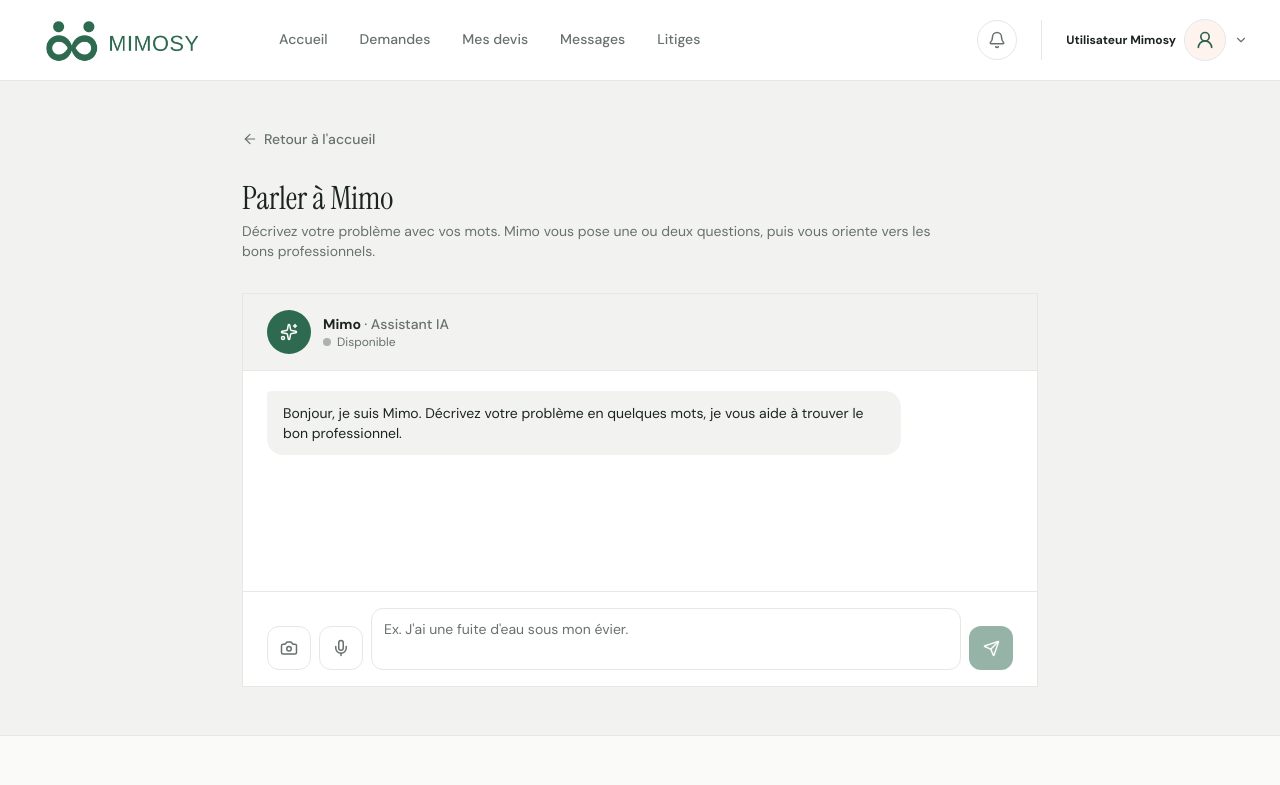
Test: Conversation Mimo (/client/diagnostic) › affiche uniquement les fourchettes tarifaires réellement fournies par le backend
This screenshot has width=1280, height=785.
Type "Mon robinet fuit." into the text box with test id "mimo-saisie".
click(666, 639); type("Mon robinet fuit.")  # box [371, 608, 961, 670]
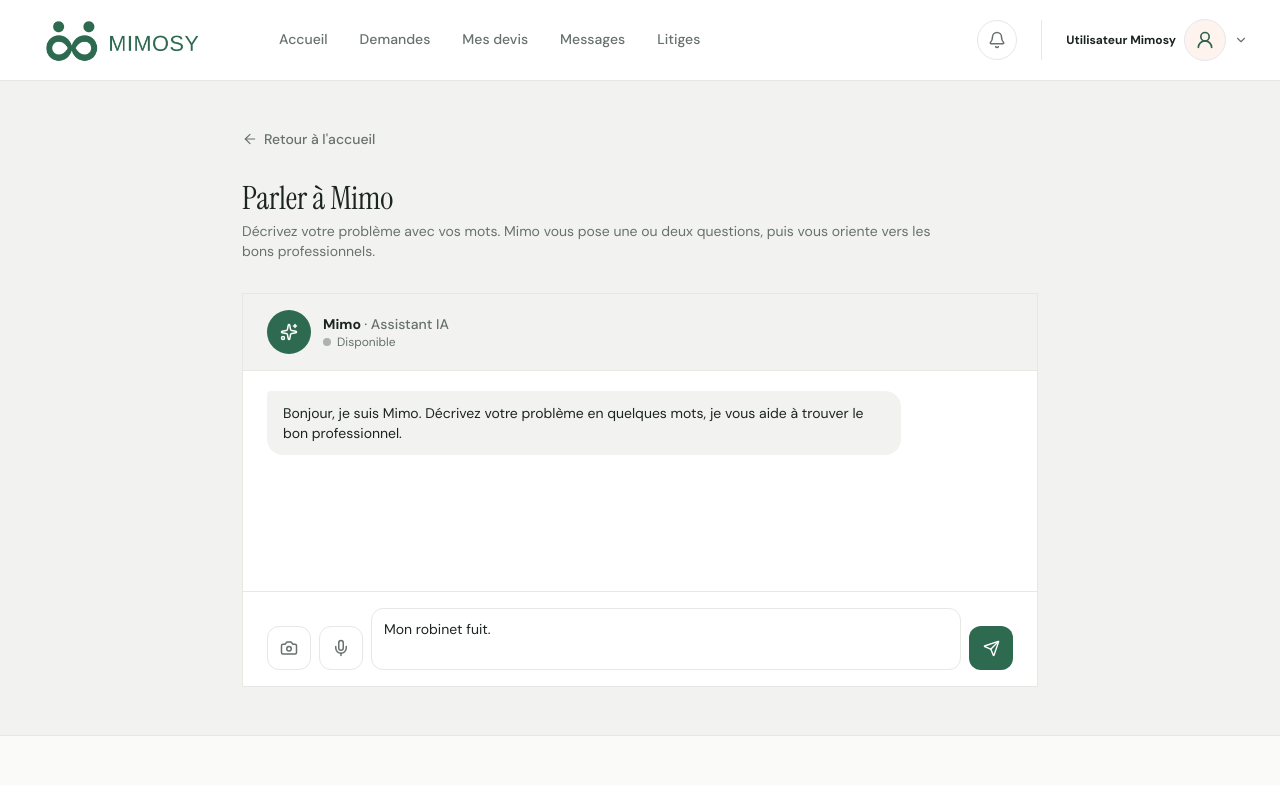
Submit the form, box [243, 591, 1037, 686]
(page scrolled)
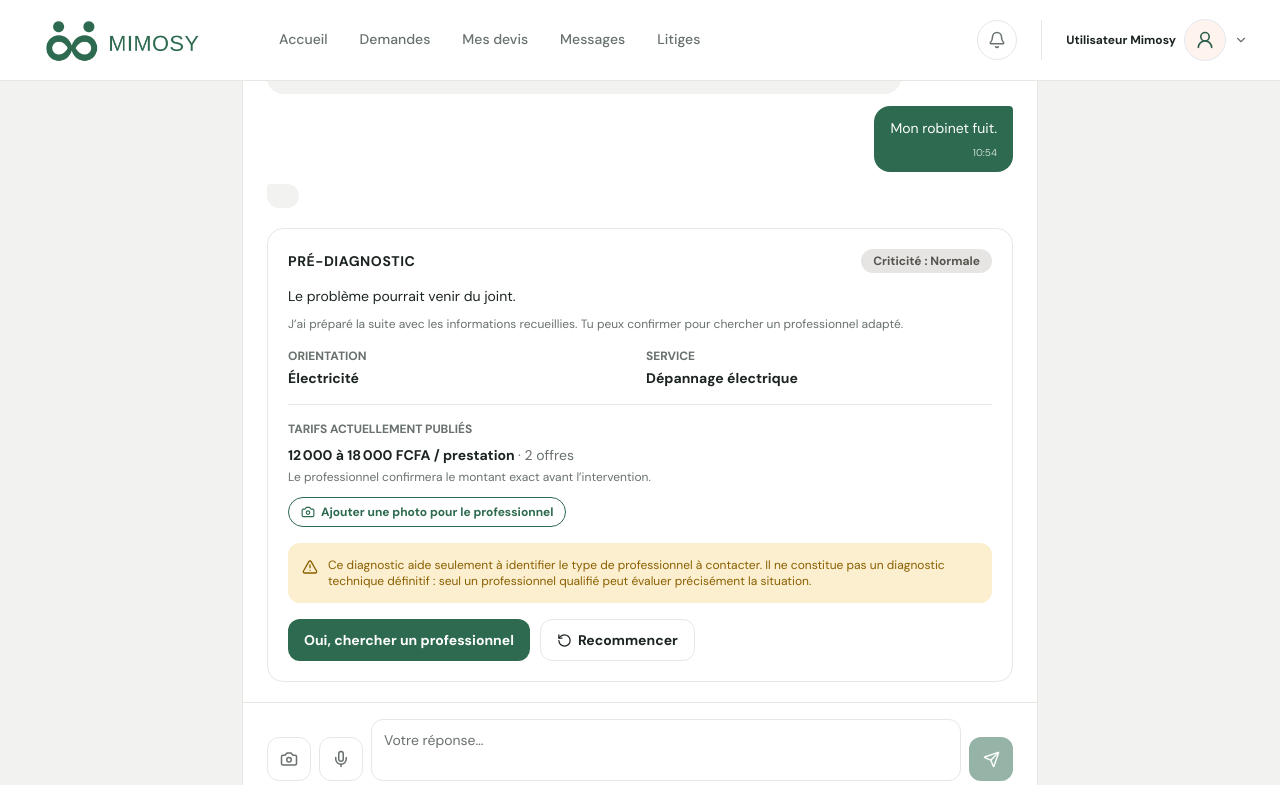
Check: the element with test id "mimo-tarifs" shows "12 000 à 18 000 FCFA / prestation", box [288, 446, 518, 464]
Check: the element with test id "mimo-tarifs" shows "2 offres", box [518, 446, 574, 464]
